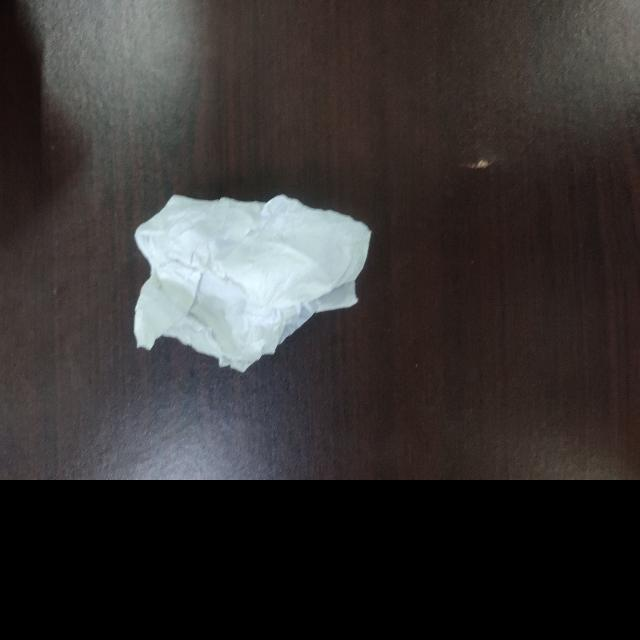kitchen paper: (129, 185, 375, 379)
